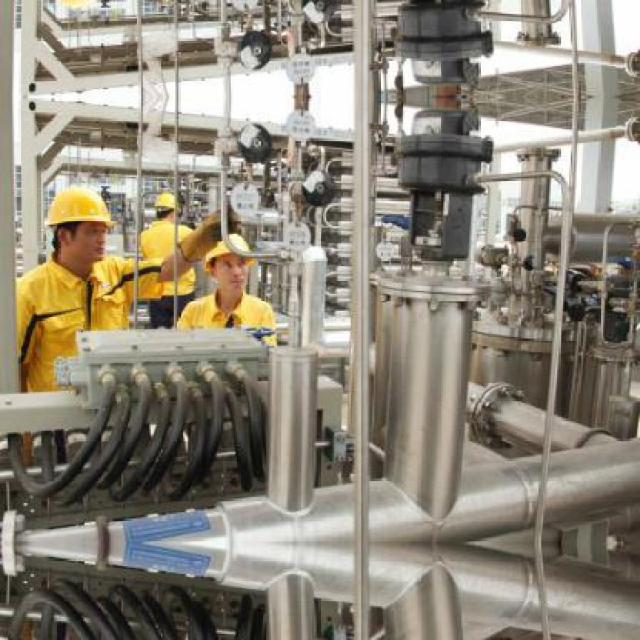helmet: (34, 182, 111, 268), (206, 224, 256, 298), (154, 186, 183, 223)
